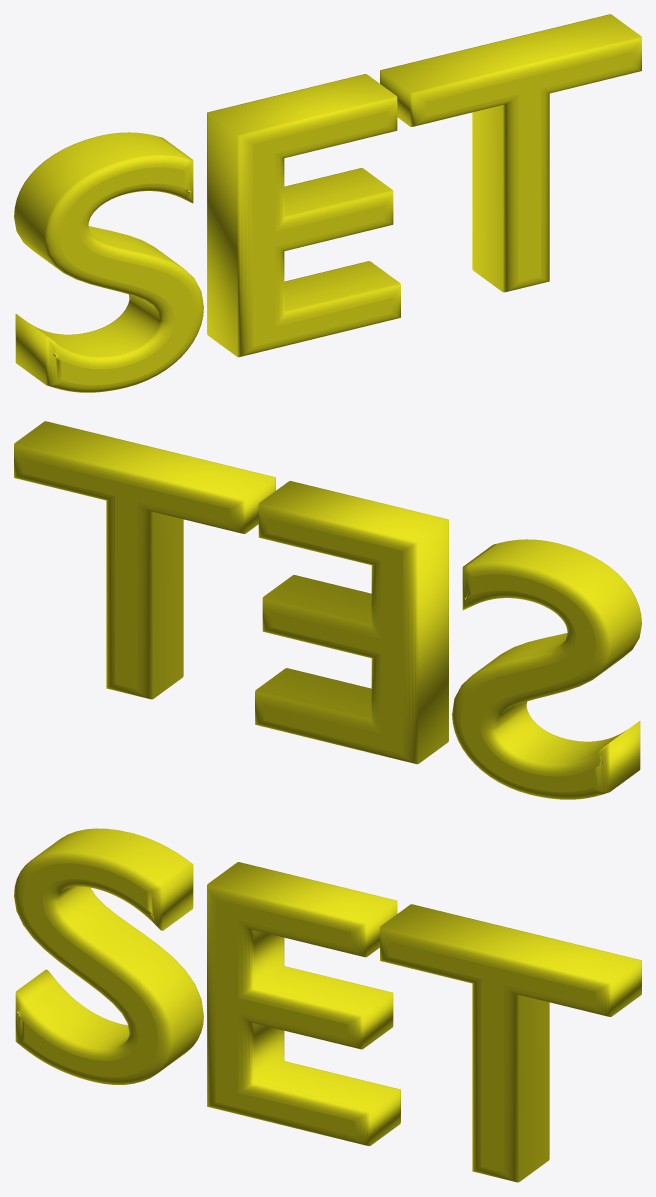
Rendered from SET.glb.
3 views of the same model, one above another, from view 1: azimuth 30°, elevation 25°; view 2: azimuth 150°, elevation 25°; view 3: azimuth 330°, elevation 25° (orthographic).
Parts seen in each view (by area): view 1: Text; view 2: Text; view 3: Text.
Part boxes in pixels (x1,y1,x2,y2): Text: (14,14,641,392); Text: (14,421,641,799); Text: (14,828,641,1182).
Bounding box in the file's own units: 2.78 × 1.01 × 0.3.
